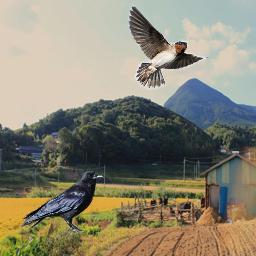Crow: (19, 169, 105, 235)
Swallow: (127, 4, 211, 90)
